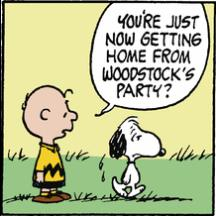charlie: (19, 83, 79, 205)
snoopy: (106, 114, 166, 200)
